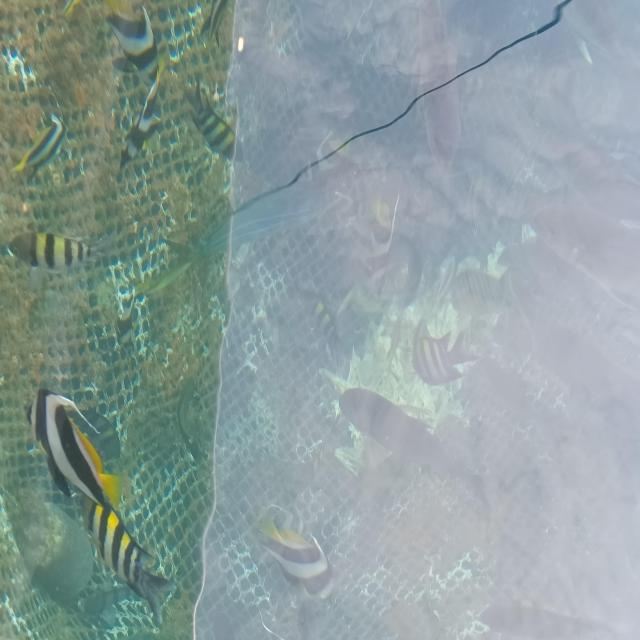ikan: (336, 384, 490, 509), (79, 491, 177, 629), (25, 387, 126, 518), (256, 506, 336, 601), (185, 78, 243, 163), (411, 317, 480, 387), (123, 60, 164, 152), (10, 111, 68, 176), (104, 4, 158, 73), (449, 265, 512, 321), (4, 230, 87, 270)
